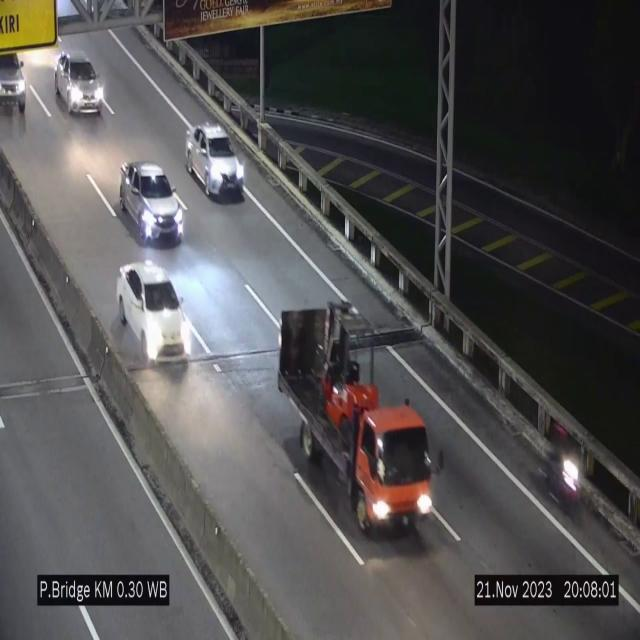Car: (118, 261, 192, 370), (119, 162, 184, 244), (185, 124, 245, 199), (55, 53, 103, 115)
Motorcycle: (550, 422, 580, 521)
Truck: (277, 301, 434, 532)
